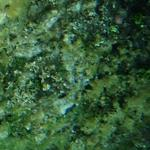dead: (3, 5, 142, 142)
